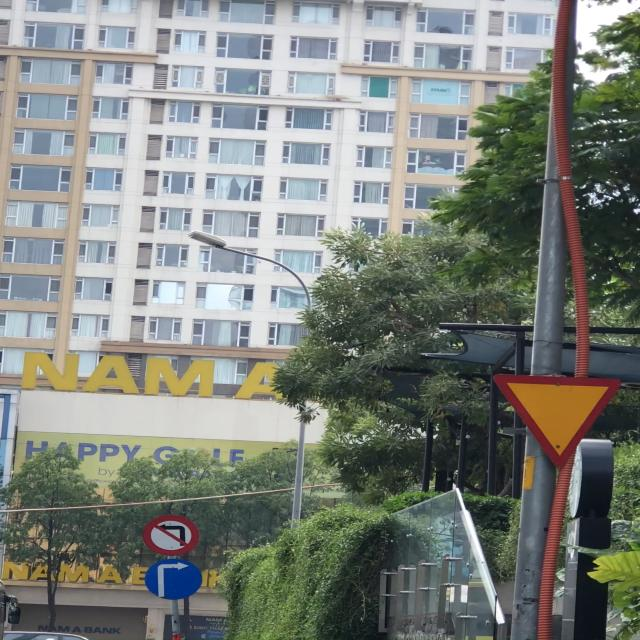Bien bao cam re trai: (140, 512, 200, 558)
Bien bao giao nhau voi duong uu tien: (486, 366, 620, 470)
Bien bao huong di phai theo: (144, 557, 204, 603)
